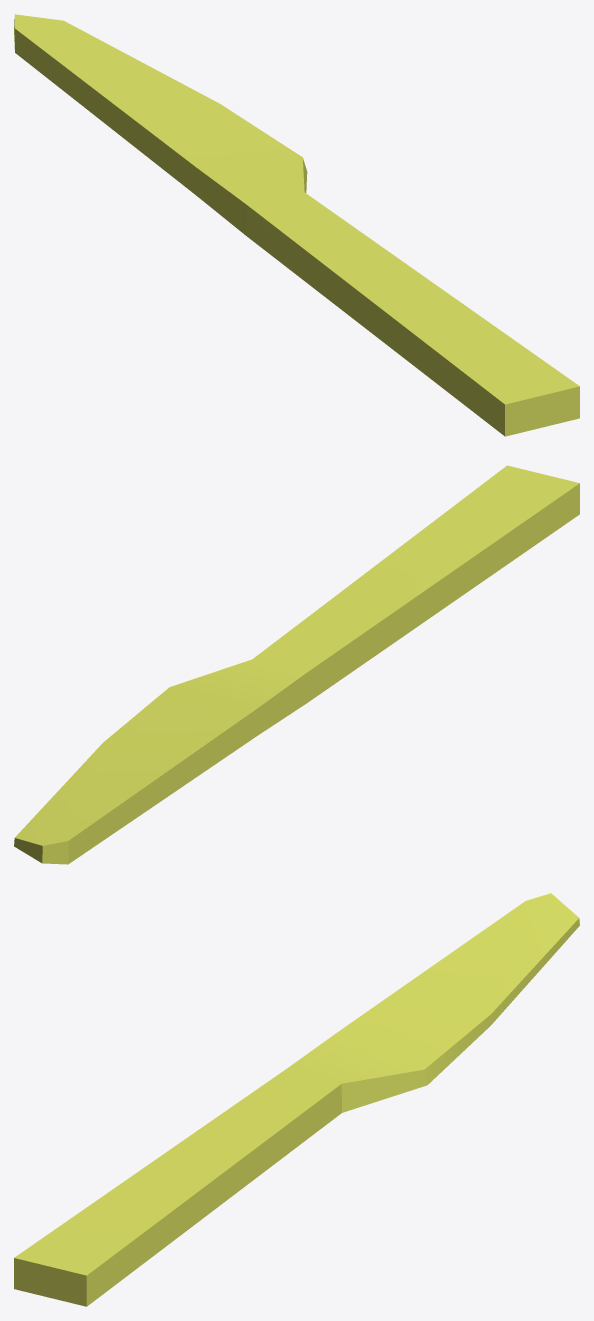
Rendered from li_utensilKnife.fbx.
The picture shows the model from 3 angles, top to bottom: view 1: azimuth 30°, elevation 25°; view 2: azimuth 150°, elevation 25°; view 3: azimuth 330°, elevation 25°; orthographic projection. The views are drawn at different scales.
Parts seen in each view (by area): view 1: li_utensilKnife; view 2: li_utensilKnife; view 3: li_utensilKnife.
Part boxes in pixels (x1=…): li_utensilKnife: x1=14, y1=14, x2=579, y2=436; li_utensilKnife: x1=14, y1=465, x2=579, y2=864; li_utensilKnife: x1=14, y1=893, x2=579, y2=1306.
Size of the model in its own units: 3.21 by 0.8919 by 25.5.
